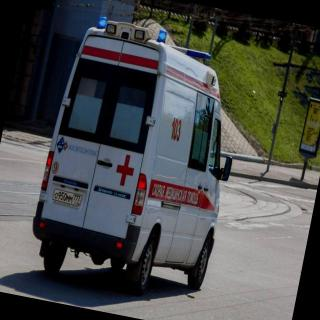Ambulance: (16, 0, 257, 308)
